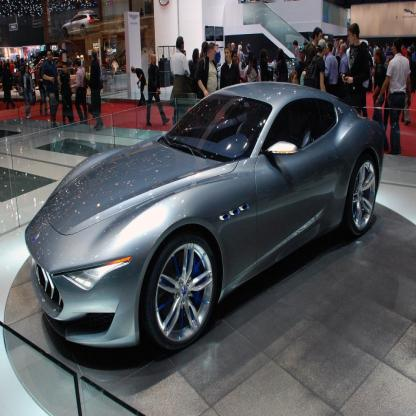Car: (25, 82, 386, 355), (62, 11, 101, 40)
